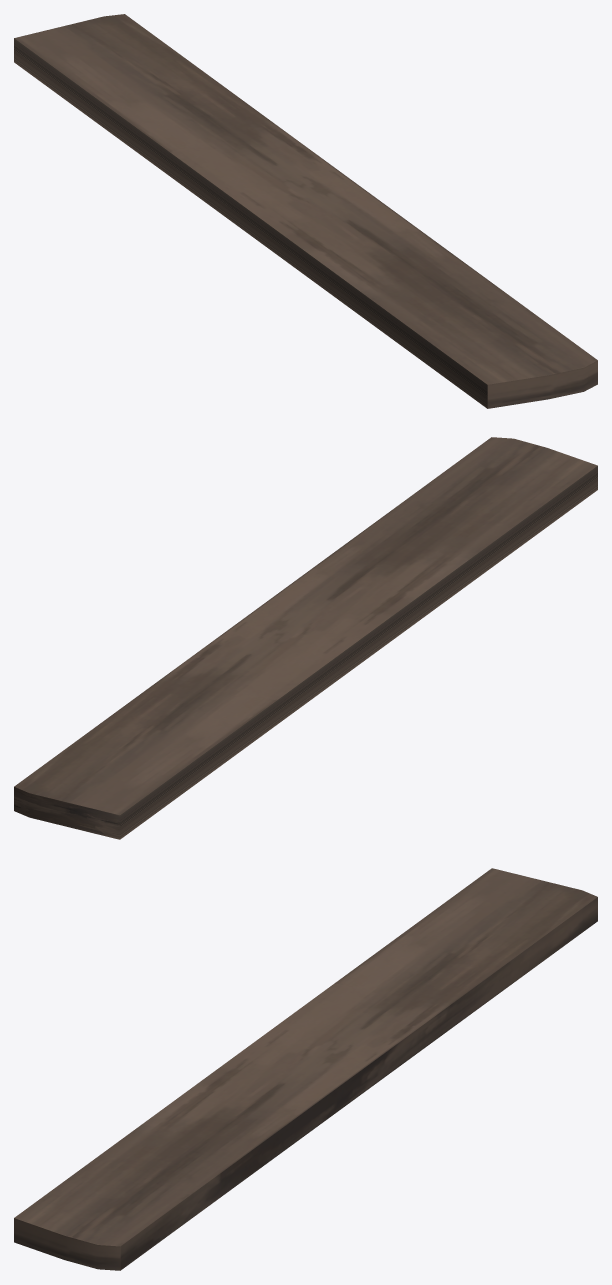
The model's file is SM_WoodenPlank_01.fbx.
The picture shows the model from 3 angles, top to bottom: view 1: azimuth 30°, elevation 25°; view 2: azimuth 150°, elevation 25°; view 3: azimuth 330°, elevation 25°; orthographic projection.
Visible parts, largest first — view 1: SM_WoodenPlank_01_LOD0; view 2: SM_WoodenPlank_01_LOD0; view 3: SM_WoodenPlank_01_LOD0.
Part boxes in pixels (x1=…): SM_WoodenPlank_01_LOD0: x1=14, y1=14, x2=597, y2=408; SM_WoodenPlank_01_LOD0: x1=14, y1=437, x2=597, y2=839; SM_WoodenPlank_01_LOD0: x1=14, y1=868, x2=597, y2=1270.
Size of the model in its own units: 61.02 by 470 by 13.04.
Materials: 1 (1 with a texture image).
